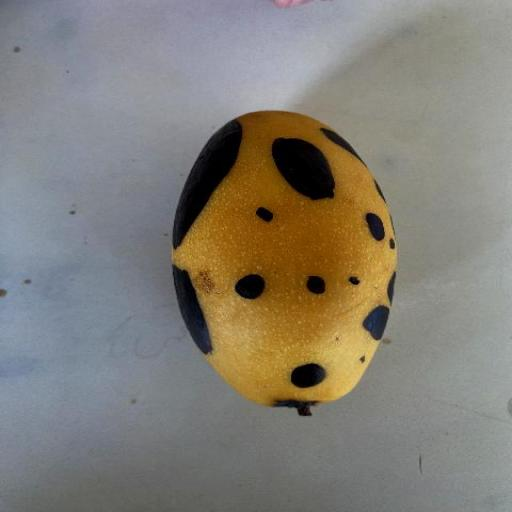mango-overripe: (139, 85, 391, 424)
